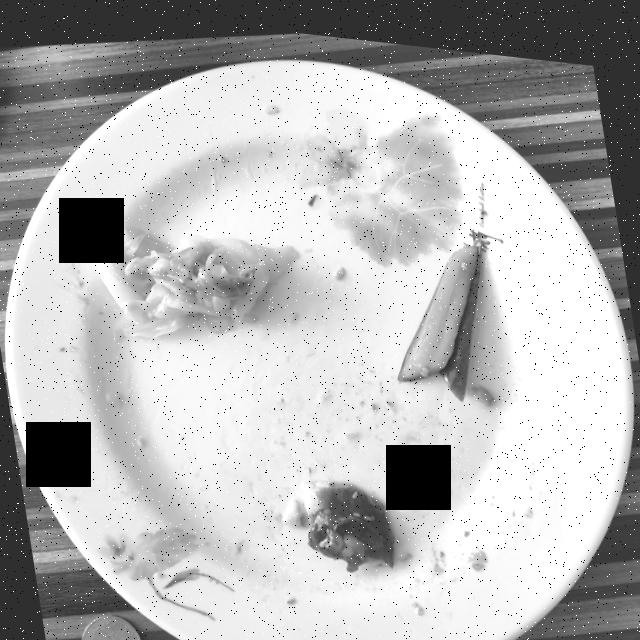Kabayaki sea bream fillet: (283, 473, 395, 563)
cabbage: (84, 222, 297, 338)
coin: (82, 612, 142, 640)
cucumber: (397, 227, 483, 390)
